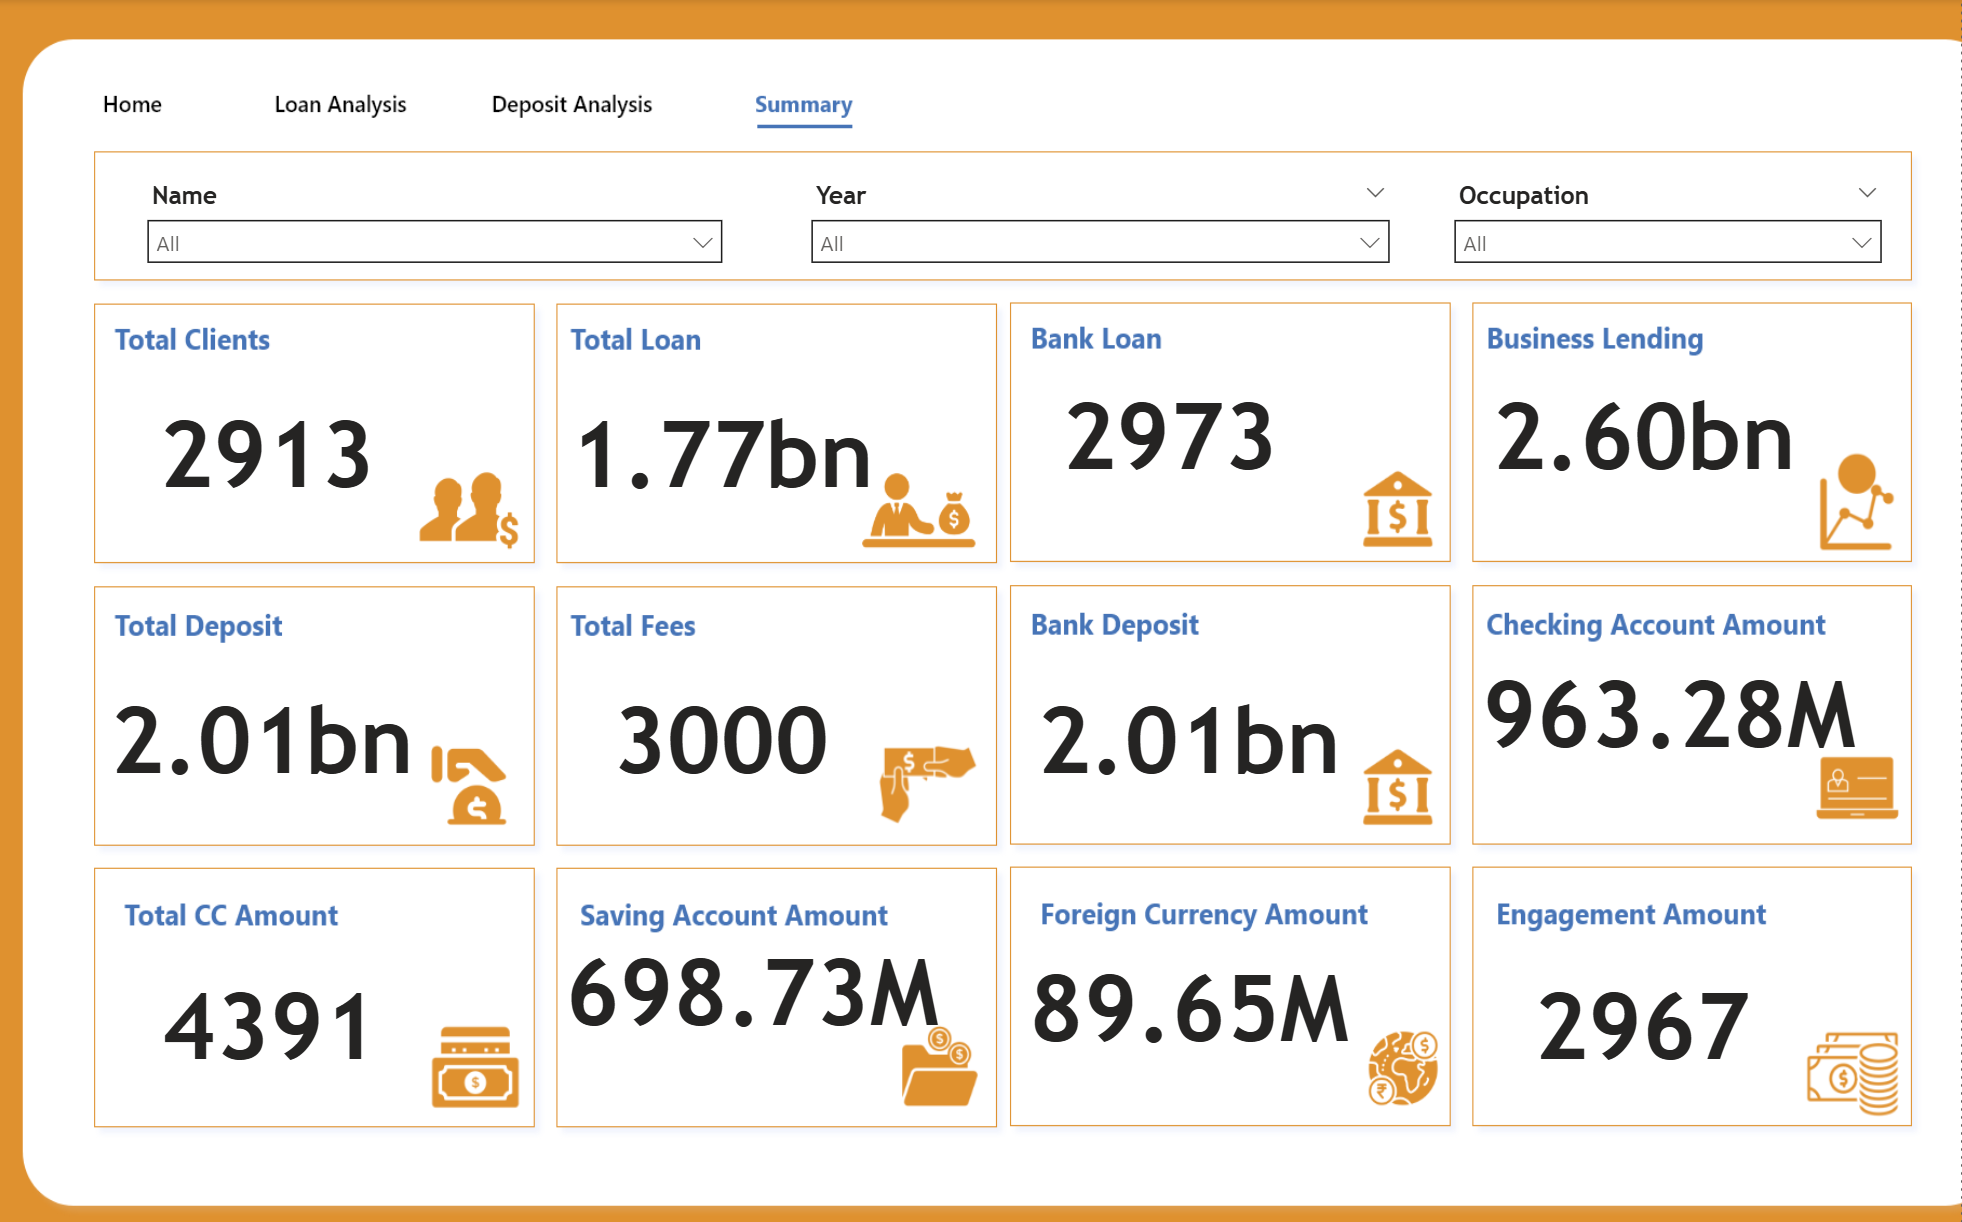

The dashboard page shown, as its layout file describes it:
{"tool":"powerbi","page":{"name":"Summary","canvas":[1280,800],"ordinal":3},"visuals":[{"type":"slicer","fields":{"Values":["Banking_Clients.Name"]},"box":[91.1,113.2,394.1,63.7],"z":0},{"type":"slicer","fields":{"Values":["Banking_Clients.Joined Bank.Variation.Date Hierarchy.Year"]},"box":[522.9,113.2,395.4,63.7],"z":1000},{"type":"slicer","fields":{"Values":["Banking_Clients.Occupation"]},"box":[940.5,113.2,297.9,63.7],"z":2000},{"type":"card","fields":{"Values":["Count(Banking_Clients.Name)"]},"box":[82,253.7,193.8,75.4],"z":3000},{"type":"card","fields":{"Values":["Count(Banking_Clients.Bank Loans)"]},"box":[668.6,242,193.8,75.4],"z":4000},{"type":"card","fields":{"Values":["Sum(Banking_Clients.Bank Loans)"]},"box":[361.6,253.7,226.3,75.4],"z":5000},{"type":"card","fields":{"Values":["Sum(Banking_Clients.Business Lending)"]},"box":[967.8,242,212,75.4],"z":6000},{"type":"card","fields":{"Values":["Sum(Clients - Banking.Bank Deposits)"]},"box":[62.4,439.7,226.3,75.4],"z":7000},{"type":"card","fields":{"Values":["CountNonNull(Clients - Banking.Fee Structure)"]},"box":[377.2,439.7,193.8,75.4],"z":8000},{"type":"card","fields":{"Values":["Sum(Banking_Clients.Bank Deposits)"]},"box":[668.6,439.7,218.5,75.4],"z":9000},{"type":"card","fields":{"Values":["Sum(Clients - Banking.Checking Accounts)"]},"box":[958.7,422.8,262.8,75.4],"z":10000},{"type":"card","fields":{"Values":["Sum(Clients - Banking.Amount of Credit Cards)"]},"box":[98.9,625.7,163.9,75.4],"z":11000},{"type":"card","fields":{"Values":["Sum(Clients - Banking.Saving Accounts)"]},"box":[361.6,603.6,265.4,75.4],"z":12000},{"type":"card","fields":{"Values":["Sum(Clients - Banking.Foreign Currency Account)"]},"box":[668.6,614,218.5,75.4],"z":13000},{"type":"card","fields":{"Values":["Count(Clients - Banking.Saving Accounts)"]},"box":[975.6,625.7,193.8,75.4],"z":14000},{"type":"actionButton","box":[49.4,48.1,100.2,40.3],"z":14001},{"type":"actionButton","box":[175.6,48.1,100.2,40.3],"z":14002},{"type":"actionButton","box":[312.2,48.1,123.6,40.3],"z":14003},{"type":"actionButton","box":[464.4,48.1,123.6,40.3],"z":14004}]}

Visuals, with their boxes in screenshot pixels (x1, y1, x2, y2), scaled from the page's 1280x800 canvas onto the 1962x1222 screenshot:
slicer - Banking_Clients.Name: {"left": 140, "top": 173, "right": 744, "bottom": 270}
slicer - Banking_Clients.Joined Bank.Variation.Date Hierarchy.Year: {"left": 802, "top": 173, "right": 1408, "bottom": 270}
slicer - Banking_Clients.Occupation: {"left": 1442, "top": 173, "right": 1898, "bottom": 270}
card - Count(Banking_Clients.Name): {"left": 126, "top": 388, "right": 423, "bottom": 503}
card - Count(Banking_Clients.Bank Loans): {"left": 1025, "top": 370, "right": 1322, "bottom": 485}
card - Sum(Banking_Clients.Bank Loans): {"left": 554, "top": 388, "right": 901, "bottom": 503}
card - Sum(Banking_Clients.Business Lending): {"left": 1483, "top": 370, "right": 1808, "bottom": 485}
card - Sum(Clients - Banking.Bank Deposits): {"left": 96, "top": 672, "right": 443, "bottom": 787}
card - CountNonNull(Clients - Banking.Fee Structure): {"left": 578, "top": 672, "right": 875, "bottom": 787}
card - Sum(Banking_Clients.Bank Deposits): {"left": 1025, "top": 672, "right": 1360, "bottom": 787}
card - Sum(Clients - Banking.Checking Accounts): {"left": 1470, "top": 646, "right": 1872, "bottom": 761}
card - Sum(Clients - Banking.Amount of Credit Cards): {"left": 152, "top": 956, "right": 403, "bottom": 1071}
card - Sum(Clients - Banking.Saving Accounts): {"left": 554, "top": 922, "right": 961, "bottom": 1037}
card - Sum(Clients - Banking.Foreign Currency Account): {"left": 1025, "top": 938, "right": 1360, "bottom": 1053}
card - Count(Clients - Banking.Saving Accounts): {"left": 1495, "top": 956, "right": 1792, "bottom": 1071}
actionButton: {"left": 76, "top": 73, "right": 229, "bottom": 135}
actionButton: {"left": 269, "top": 73, "right": 423, "bottom": 135}
actionButton: {"left": 479, "top": 73, "right": 668, "bottom": 135}
actionButton: {"left": 712, "top": 73, "right": 901, "bottom": 135}
